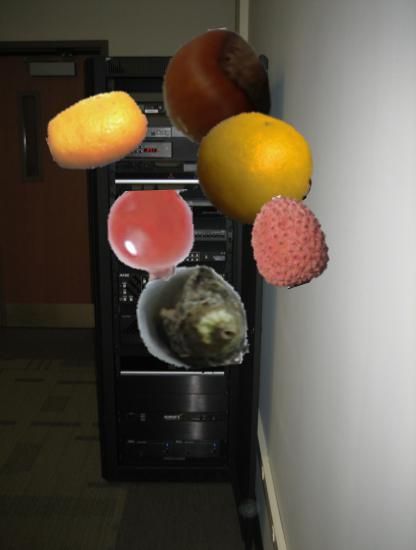Eggplant: (136, 261, 250, 375)
Grapefruit: (195, 110, 313, 228)
Kumquats: (46, 80, 149, 183)
Lychee: (242, 195, 334, 287)
Nectarine: (255, 153, 311, 209)
Nut: (155, 29, 277, 151)
Redcurrant: (104, 190, 198, 284)
